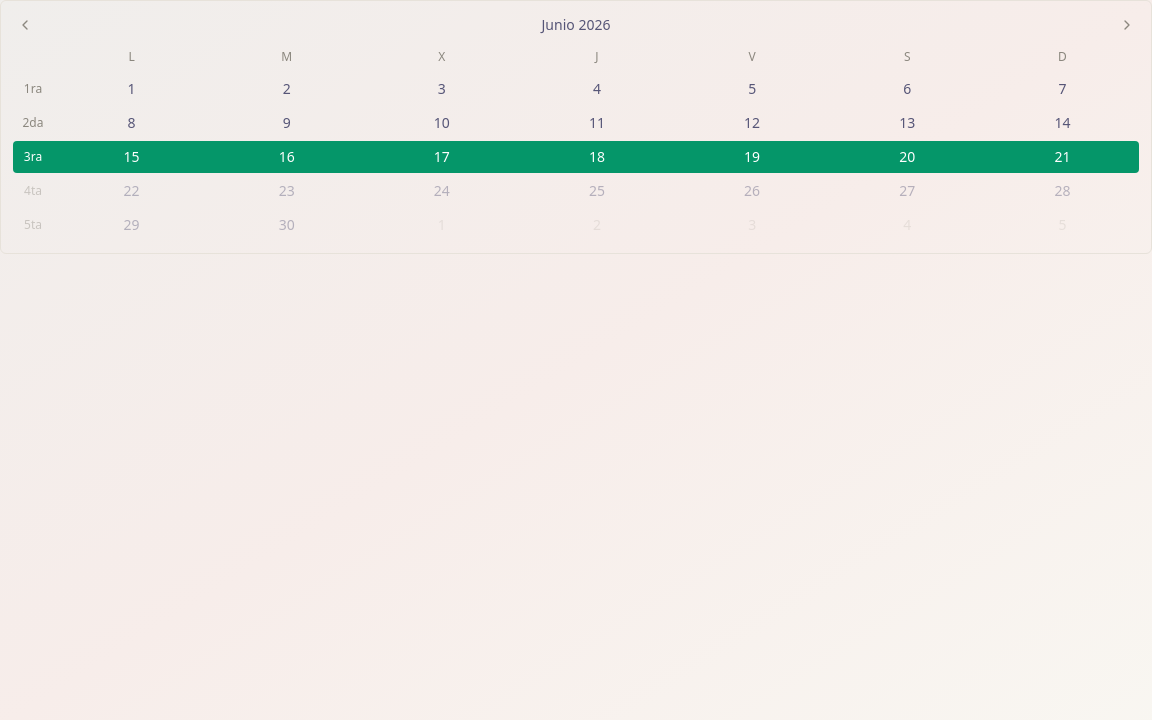
WeekCalendar › navigates to the previous/next month without changing the selection
Check: the element with test id "week-calendar" shows "Junio 2026", box [37,13,1115,37]
Click the button with test id "week-calendar-next": (1127, 25) [1115,13,1139,37]
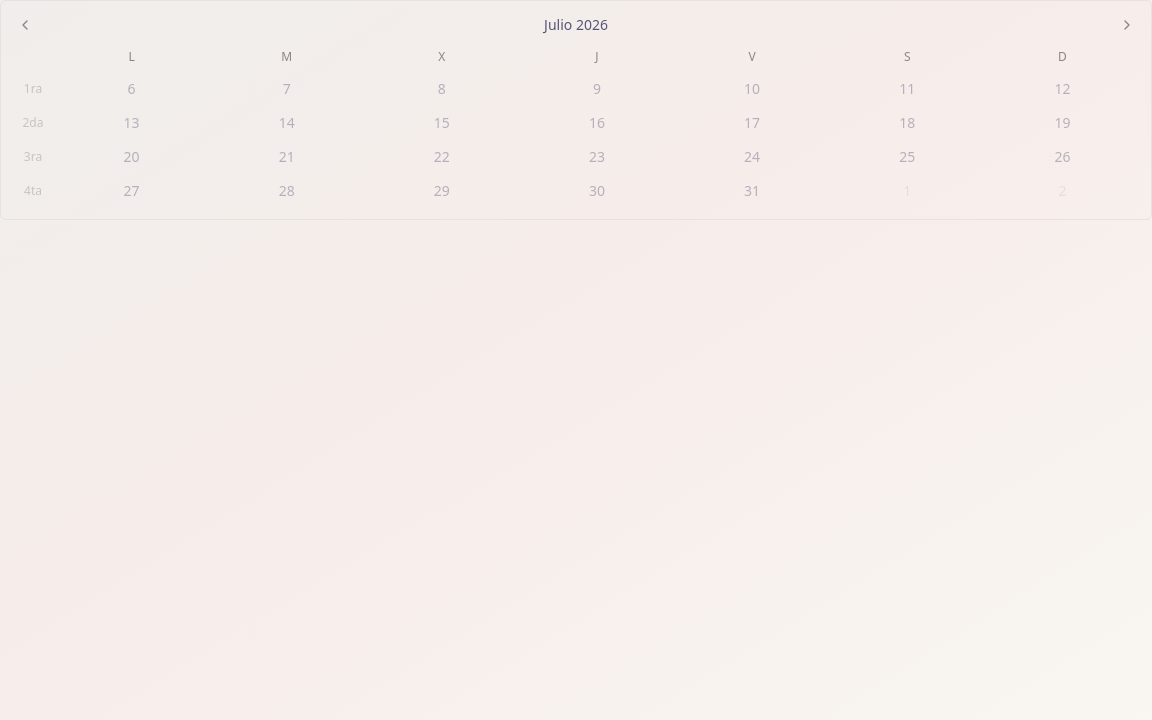
Check: the element with test id "week-calendar" shows "Julio 2026", box [37,13,1115,37]
Click the button with test id "week-calendar-prev": (25, 25) [13,13,37,37]
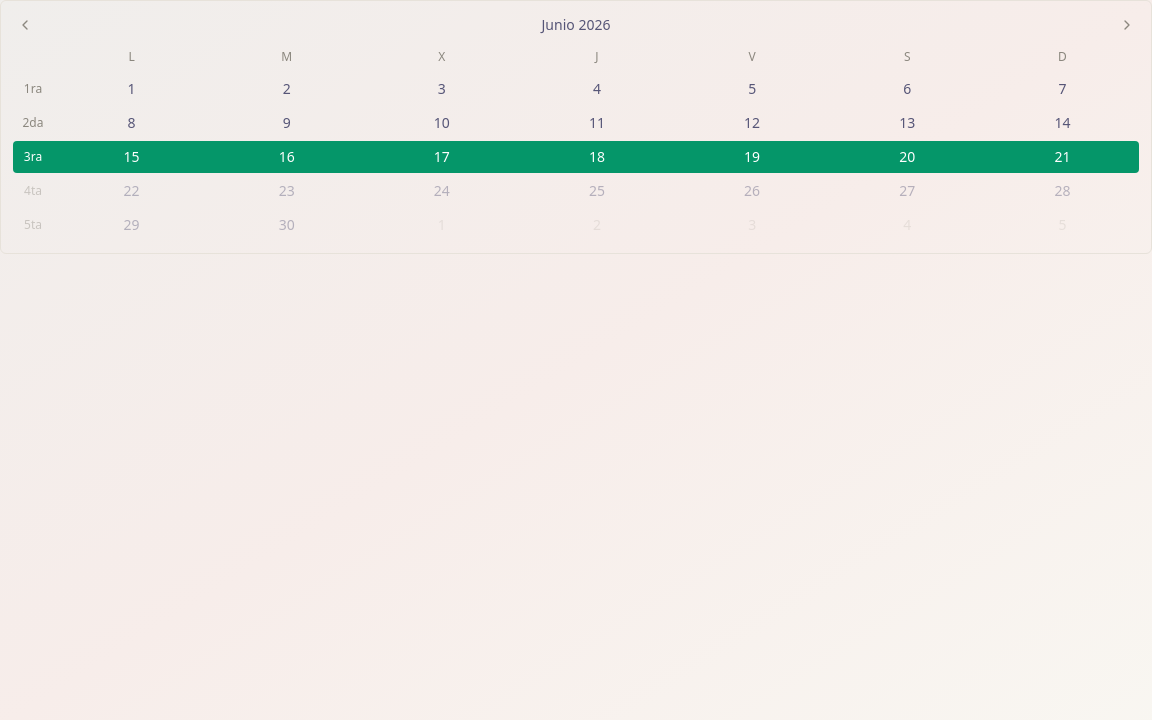
Check: the element with test id "week-calendar" shows "Junio 2026", box [37,13,1115,37]
